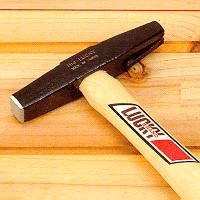hammer: (9, 20, 199, 199)
